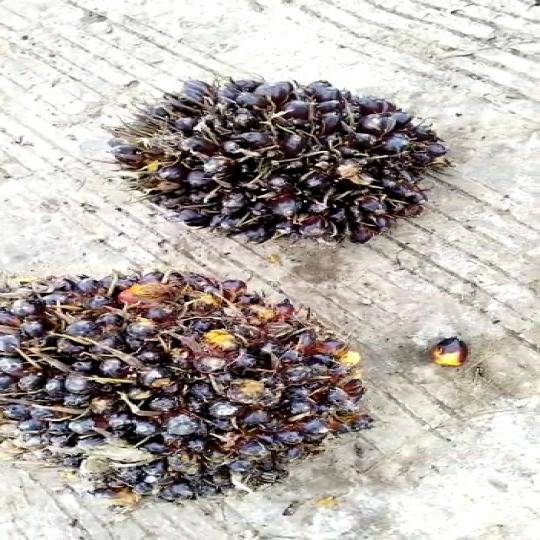mentah: (0, 258, 387, 500), (109, 56, 454, 248)
